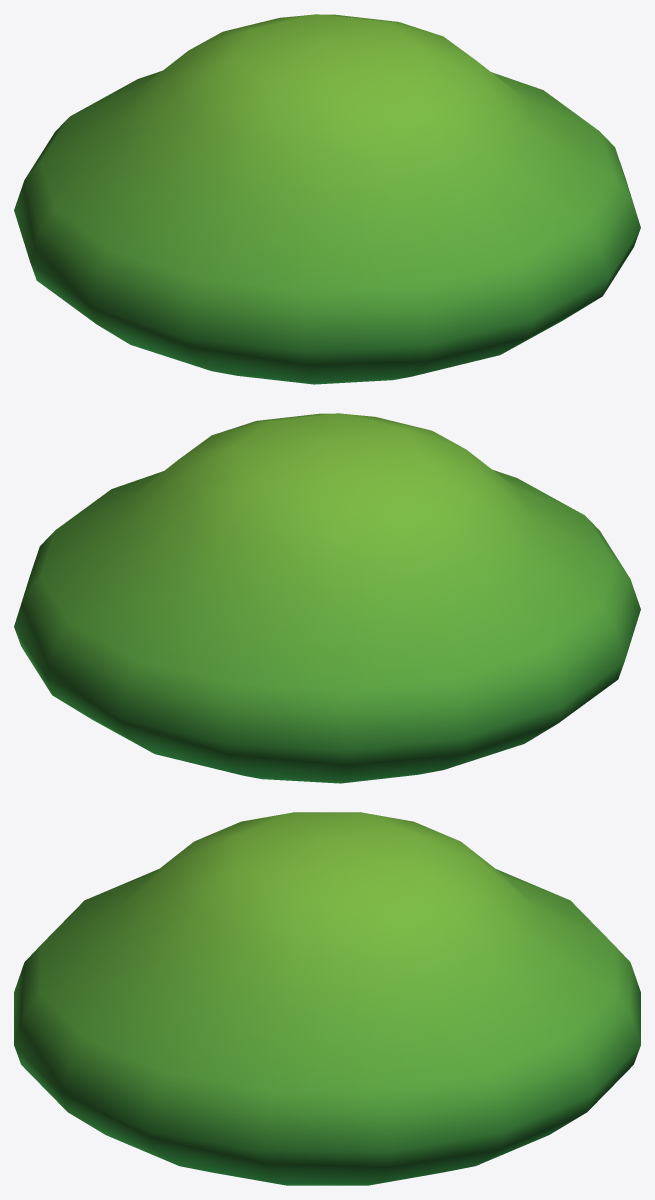
Rendered from Bush_3_C_Color1.glb.
3 views of the same model, one above another, from view 1: azimuth 30°, elevation 25°; view 2: azimuth 150°, elevation 25°; view 3: azimuth 270°, elevation 25° (orthographic).
Parts seen in each view (by area): view 1: Bush_3_C_Color1; view 2: Bush_3_C_Color1; view 3: Bush_3_C_Color1.
Part boxes in pixels (x1,y1,x2,y2): Bush_3_C_Color1: (14,14,640,384); Bush_3_C_Color1: (14,413,640,783); Bush_3_C_Color1: (14,812,640,1185).
Size of the model in its own units: 2.49 by 1.15 by 2.49.
Materials: 1 (1 with a texture image).
